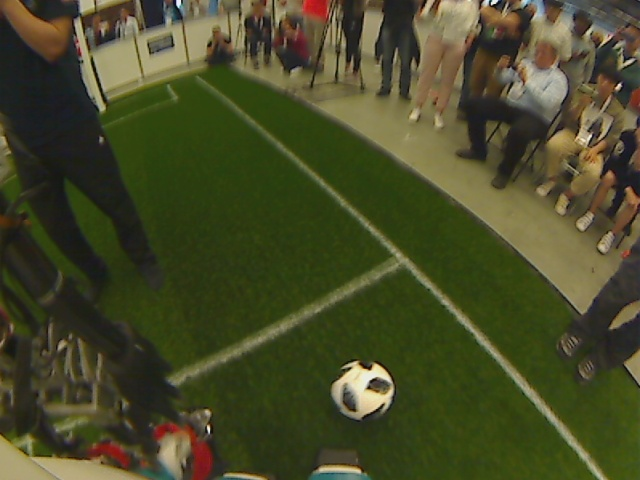ball: (330, 360, 394, 424)
